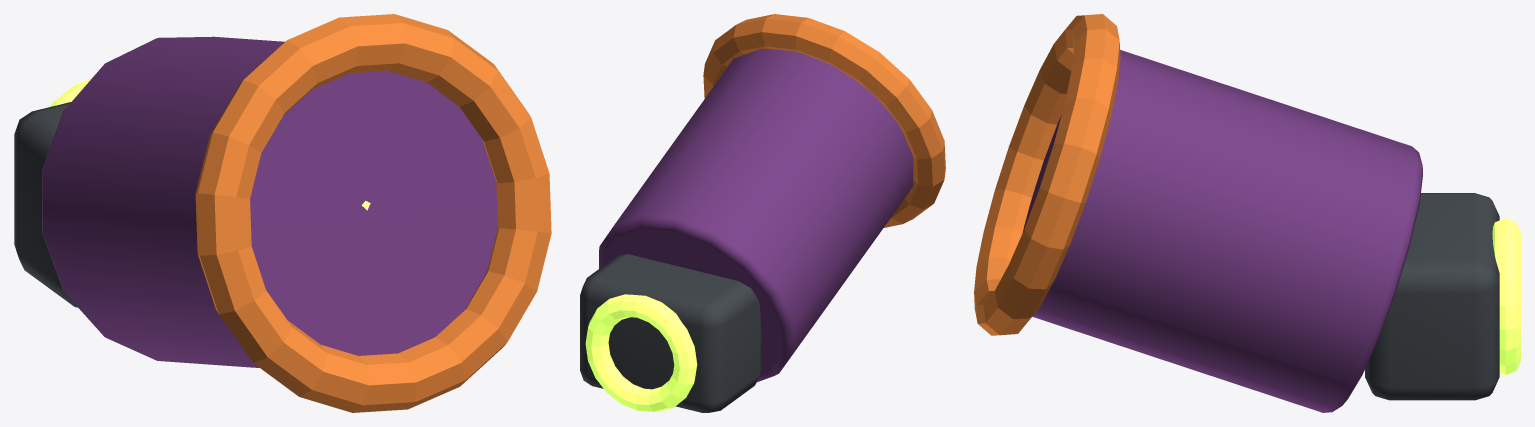
Rendered from module-mortar.glb.
3 views of the same model, side by side, from view 1: azimuth 30°, elevation 25°; view 2: azimuth 150°, elevation 25°; view 3: azimuth 270°, elevation 25° (orthographic). The views are drawn at different scales.
Visible parts, largest first — view 1: Wide mortar tube, Mortar lip, Universal connector.003; view 2: Wide mortar tube, Universal connector.003, Mortar lip, Standard attachment ring.003; view 3: Wide mortar tube, Mortar lip, Universal connector.003, Standard attachment ring.003.
Part boxes in pixels (left/top/right/bottom): Wide mortar tube: left=42, top=36, right=497, bottom=367; Mortar lip: left=195, top=14, right=551, bottom=412; Universal connector.003: left=14, top=102, right=77, bottom=307; Wide mortar tube: left=599, top=49, right=913, bottom=381; Universal connector.003: left=580, top=254, right=761, bottom=412; Mortar lip: left=703, top=14, right=945, bottom=227; Standard attachment ring.003: left=585, top=294, right=697, bottom=411; Wide mortar tube: left=1023, top=50, right=1422, bottom=412; Mortar lip: left=974, top=14, right=1120, bottom=335; Universal connector.003: left=1365, top=193, right=1499, bottom=400; Standard attachment ring.003: left=1492, top=218, right=1520, bottom=375.
Size of the model in its own units: 0.56 by 0.6682 by 0.8949.
